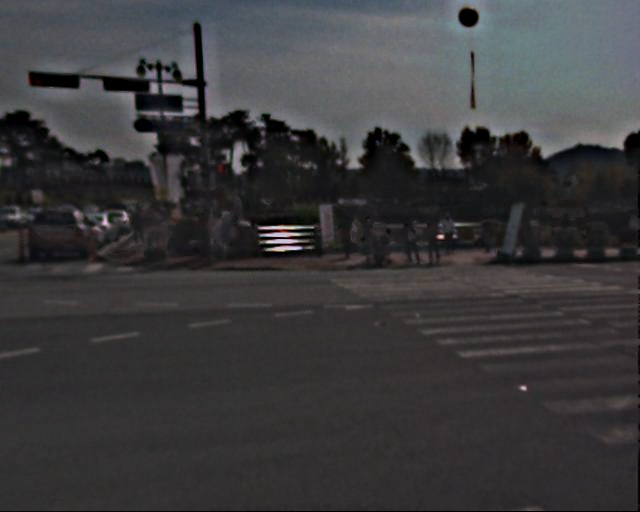person: (362, 210, 386, 268), (213, 209, 236, 265), (430, 213, 452, 266), (133, 205, 165, 240), (405, 215, 426, 265), (345, 213, 364, 260), (445, 208, 464, 255)
